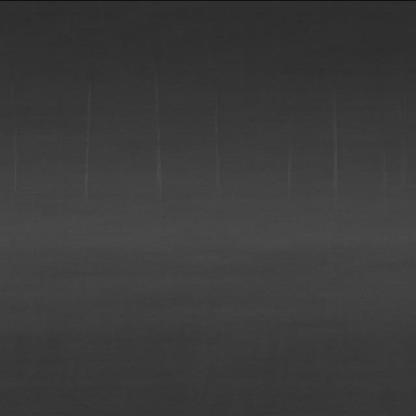waist_folding: (20, 74, 368, 230)
